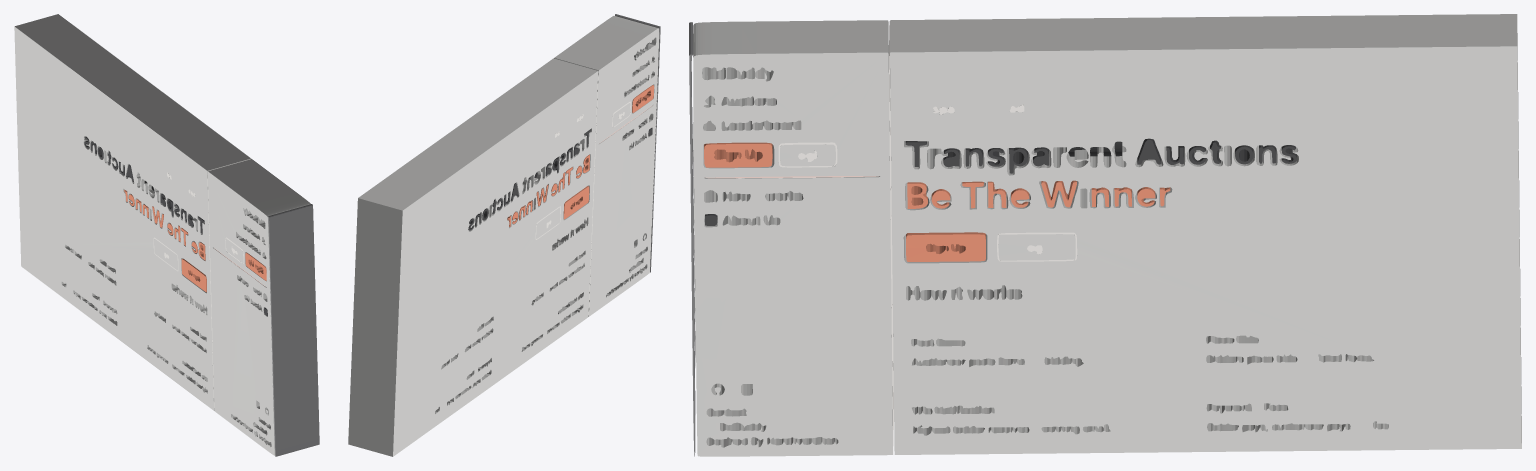
3 renders of one model, left to right at view 1: azimuth 30°, elevation 25°; view 2: azimuth 150°, elevation 25°; view 3: azimuth 270°, elevation 25°, orthographic. The views are drawn at different scales.
Parts seen in each view (by area): view 1: Node1, Node2, Node40, Node9, Node10; view 2: Node1, Node2, Node40, Node9, Node10; view 3: Node1, Node2, Node9, Node10, Node40.
Part boxes in pixels (x1=…): Node1: x1=14, y1=14, x2=250, y2=410; Node2: x1=207, y1=159, x2=310, y2=455; Node40: x1=268, y1=204, x2=319, y2=456; Node9: x1=181, y1=258, x2=206, y2=292; Node10: x1=245, y1=252, x2=266, y2=280; Node1: x1=348, y1=58, x2=598, y2=456; Node2: x1=554, y1=16, x2=659, y2=316; Node40: x1=615, y1=14, x2=660, y2=272; Node9: x1=563, y1=186, x2=589, y2=219; Node10: x1=632, y1=85, x2=654, y2=112; Node1: x1=890, y1=14, x2=1521, y2=454; Node2: x1=693, y1=20, x2=892, y2=456; Node9: x1=906, y1=232, x2=985, y2=261; Node10: x1=704, y1=142, x2=772, y2=167; Node40: x1=689, y1=22, x2=695, y2=456.
Size of the model in its own units: 0.4708 by 2.13 by 3.96.
